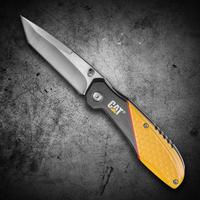knife: (16, 11, 190, 193)
